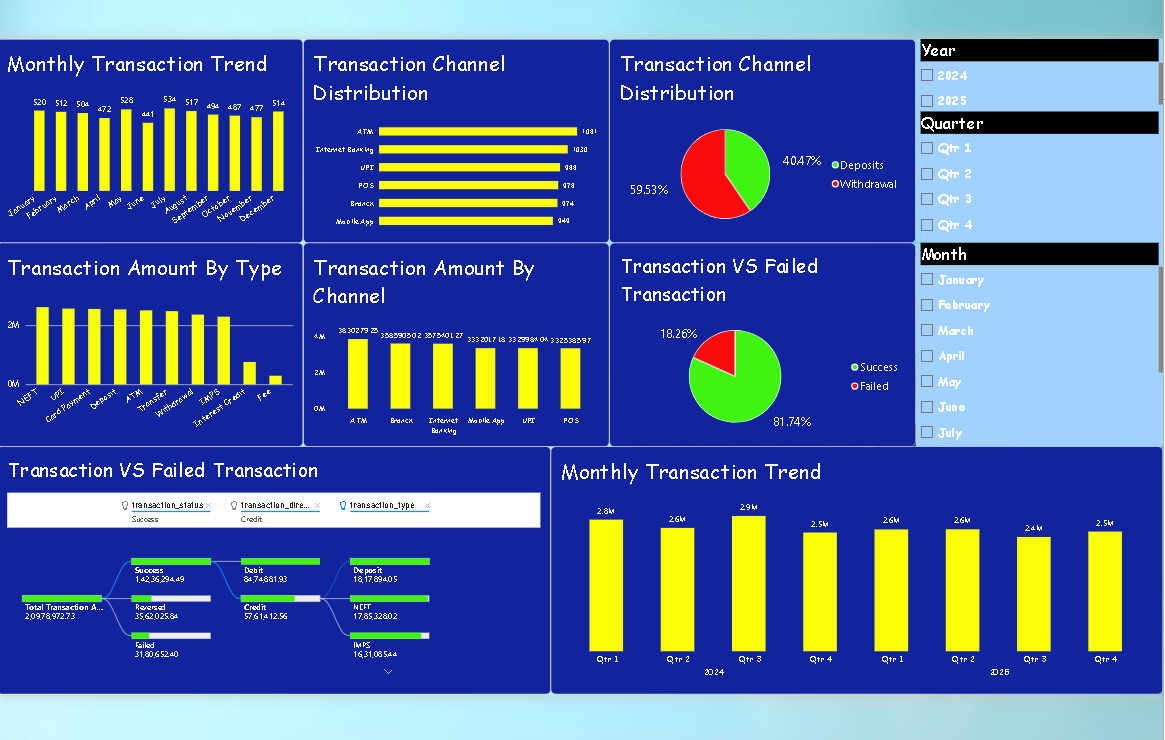

Layout of this report page (visuals, bound fields, positions):
{"tool":"powerbi","page":{"name":"Transaction Analysis","canvas":[1920,1080],"ordinal":1},"visuals":[{"type":"columnChart","title":"Monthly Transaction Trend","fields":{"Category":["transactions.transaction_datetime.Variation.Date Hierarchy.Month"],"Y":["Count(transactions.transaction_id)"]},"box":[0,0,504,336],"z":0},{"type":"clusteredBarChart","title":"Transaction Channel Distribution","fields":{"Category":["transactions.channel"],"Y":["CountNonNull(transactions.customer_id)"]},"box":[504,0,504,336],"z":1000},{"type":"pieChart","title":"Transaction Channel Distribution","fields":{"Y":["transactions.Deposits","transactions.Withdrawal"]},"box":[1008,0,504,336],"z":2000},{"type":"clusteredColumnChart","title":"Transaction Amount By Channel","fields":{"Y":["Sum(transactions.amount)"],"Category":["transactions.channel"]},"box":[504,336,504,336],"z":3000},{"type":"clusteredColumnChart","title":"Transaction Amount By Type","fields":{"Y":["Sum(transactions.amount)"],"Category":["transactions.transaction_type"]},"box":[0,336,504,336],"z":4000},{"type":"pieChart","title":"Transaction VS Failed Transaction","fields":{"Y":["transactions.Success_Transactions","transactions.Failed_Transactions"]},"box":[1008,336,504,336],"z":5000},{"type":"decompositionTreeVisual","title":"Transaction VS Failed Transaction","fields":{"Analyze":["transactions.Total Transaction Amount"],"ExplainBy":["transactions.transaction_status","transactions.transaction_direction","transactions.transaction_type"]},"box":[0,672,912,408],"z":6000},{"type":"columnChart","title":"Monthly Transaction Trend","fields":{"Y":["transactions.Total Transaction Amount"],"Category":["transactions.transaction_datetime.Variation.Date Hierarchy.Year","transactions.transaction_datetime.Variation.Date Hierarchy.Quarter","transactions.transaction_datetime.Variation.Date Hierarchy.Month","transactions.transaction_datetime.Variation.Date Hierarchy.Day"]},"box":[912,672,1008,408],"z":7000},{"type":"slicer","fields":{"Values":["transactions.transaction_datetime.Variation.Date Hierarchy.Year"]},"box":[1512,0,408,120],"z":8000},{"type":"slicer","fields":{"Values":["transactions.transaction_datetime.Variation.Date Hierarchy.Quarter"]},"box":[1512,120,408,216],"z":9000},{"type":"slicer","fields":{"Values":["transactions.transaction_datetime.Variation.Date Hierarchy.Month"]},"box":[1512,336,408,336],"z":10000}]}

Visuals, with their boxes on the page's 1920x1080 design canvas (x1, y1, x2, y2). These are canvas units, not pixel positions in the 1165x740 screenshot, which may show the page scaled, cropped or inside an application window:
"Monthly Transaction Trend" columnChart: 0, 0, 504, 336
"Transaction Channel Distribution" clusteredBarChart: 504, 0, 1008, 336
"Transaction Channel Distribution" pieChart: 1008, 0, 1512, 336
"Transaction Amount By Channel" clusteredColumnChart: 504, 336, 1008, 672
"Transaction Amount By Type" clusteredColumnChart: 0, 336, 504, 672
"Transaction VS Failed Transaction" pieChart: 1008, 336, 1512, 672
"Transaction VS Failed Transaction" decompositionTreeVisual: 0, 672, 912, 1080
"Monthly Transaction Trend" columnChart: 912, 672, 1920, 1080
slicer - transactions.transaction_datetime.Variation.Date Hierarchy.Year: 1512, 0, 1920, 120
slicer - transactions.transaction_datetime.Variation.Date Hierarchy.Quarter: 1512, 120, 1920, 336
slicer - transactions.transaction_datetime.Variation.Date Hierarchy.Month: 1512, 336, 1920, 672
